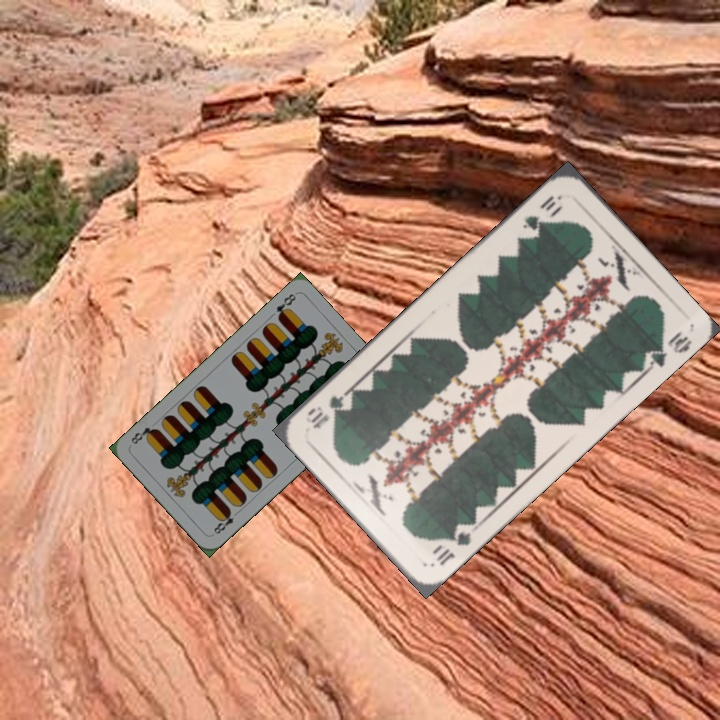E8: (210, 506, 242, 537), (272, 289, 299, 323)
G10: (518, 191, 565, 234), (432, 524, 474, 568)
